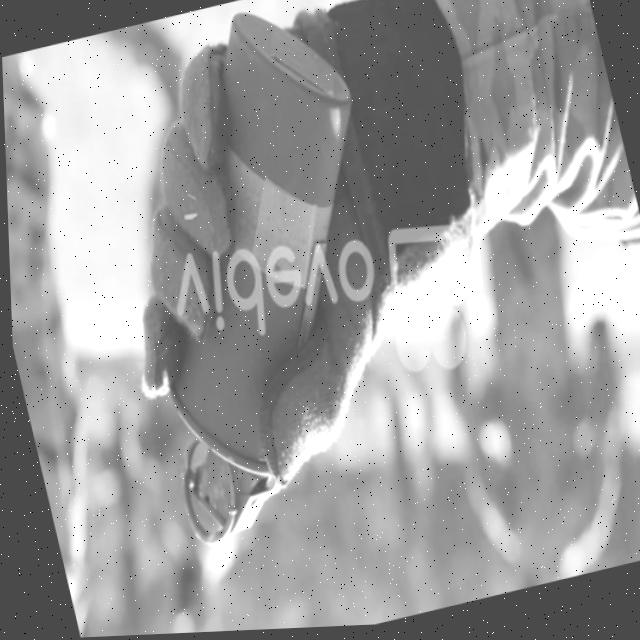grenade: (51, 0, 458, 588)
